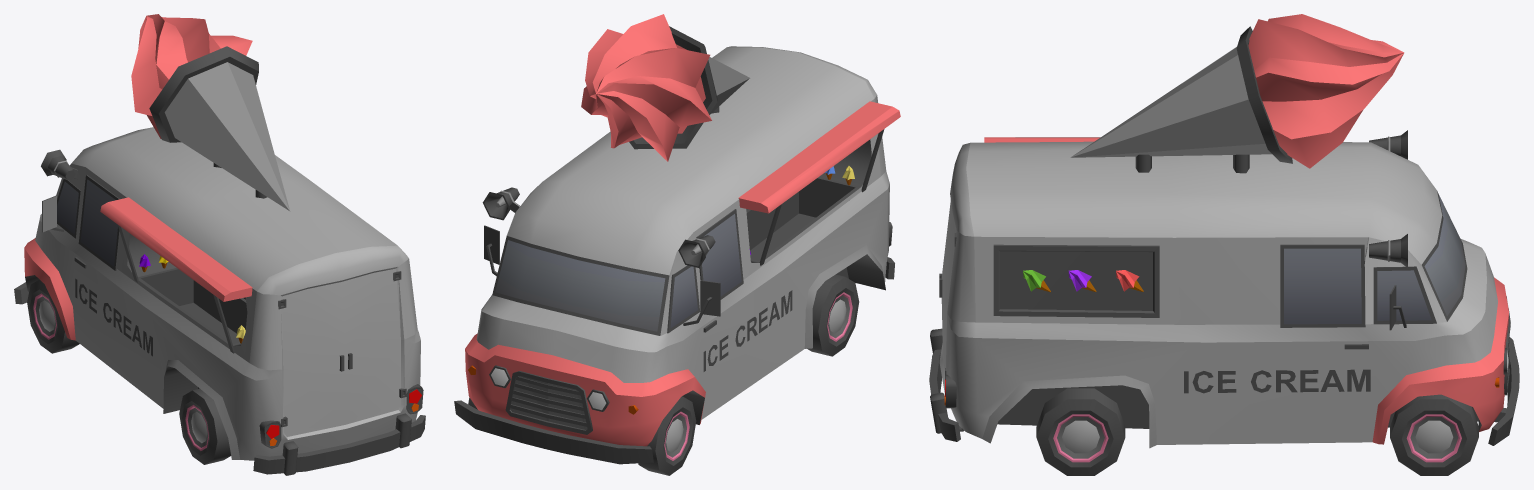
3 views of the same model, side by side, from view 1: azimuth 30°, elevation 25°; view 2: azimuth 150°, elevation 25°; view 3: azimuth 270°, elevation 25° (orthographic). The views are drawn at different scales.
Parts seen in each view (by area): view 1: Body_Textures_0, Wheel_BL_Textures_0, Wheel_FL_Textures_0; view 2: Body_Textures_0, Wheel_BL_Textures_0, Wheel_FL_Textures_0; view 3: Body_Textures_0, Wheel_BR_Textures_0, Wheel_FR_Textures_0.
Part boxes in pixels (left/top/right/bottom): Body_Textures_0: left=14, top=14, right=425, bottom=475; Wheel_BL_Textures_0: left=179, top=388, right=230, bottom=464; Wheel_FL_Textures_0: left=27, top=279, right=79, bottom=353; Body_Textures_0: left=454, top=14, right=900, bottom=464; Wheel_BL_Textures_0: left=807, top=274, right=859, bottom=356; Wheel_FL_Textures_0: left=638, top=396, right=696, bottom=475; Body_Textures_0: left=929, top=14, right=1519, bottom=448; Wheel_BR_Textures_0: left=1036, top=388, right=1125, bottom=475; Wheel_FR_Textures_0: left=1390, top=394, right=1478, bottom=475.
Bounding box in the file's own units: 3.52 × 5.35 × 7.04.
Materials: 1 (1 with a texture image).
